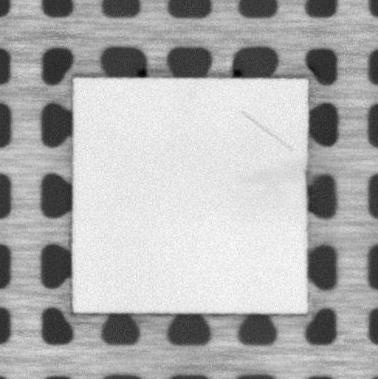DIE_CRACK: (239, 108, 294, 151)
